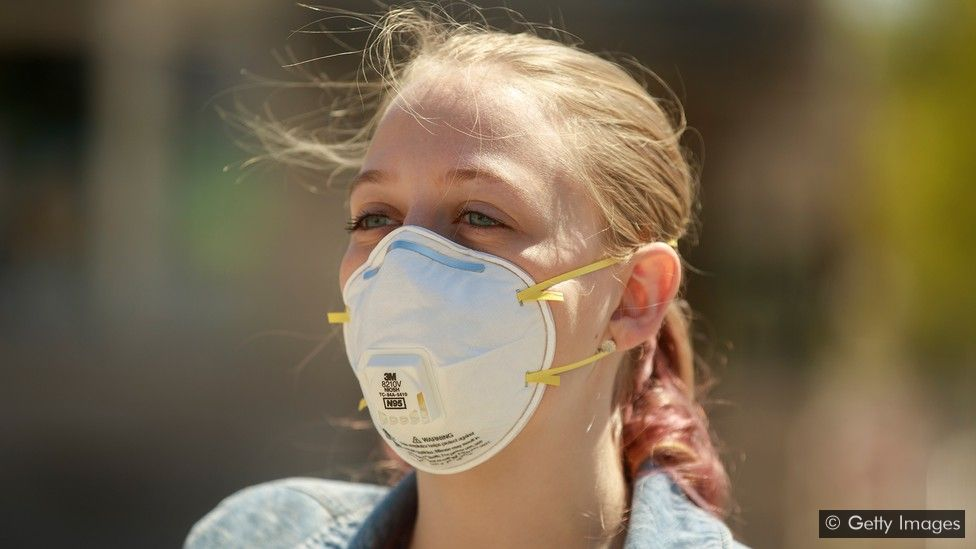with_mask: (310, 24, 696, 468)
